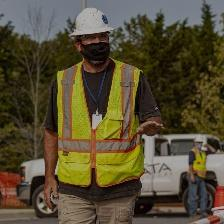Person: (36, 3, 169, 224), (188, 133, 212, 220)
helmet: (71, 5, 114, 41), (193, 133, 207, 144)
vest: (47, 59, 146, 190), (191, 148, 208, 178)
